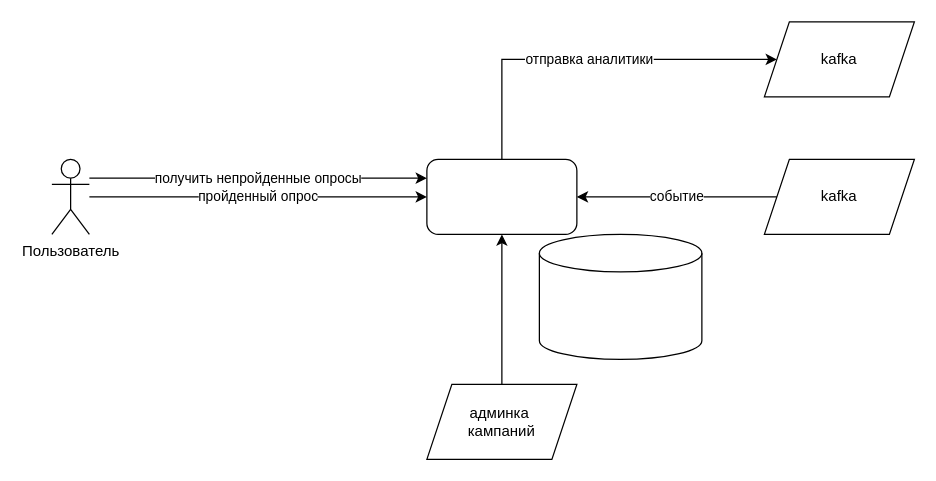
Some shapes in this 936 by 481 pixel diagram are drawn without their labels. The shapes that lost their labels are listed below. From the top down, each one's centre as x and y in pixels, then its label:
At point 501,196: "feedback".
At point 620,296: "- campaign - survey - customer_feedback - daily_metrics".
